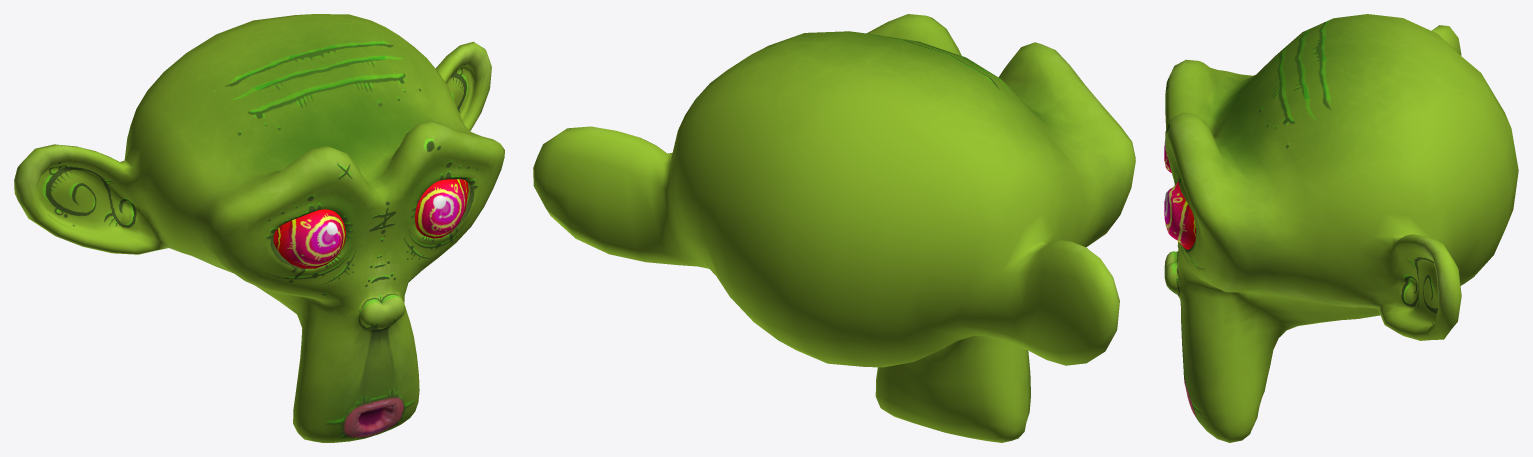
Rendered from suzanne.fbx.
The picture shows the model from 3 angles, left to right: view 1: azimuth 30°, elevation 25°; view 2: azimuth 150°, elevation 25°; view 3: azimuth 270°, elevation 25°; orthographic projection. The views are drawn at different scales.
Visible parts, largest first — view 1: Suzanne; view 2: Suzanne; view 3: Suzanne.
Boxes of the visible parts, box(x1,y1,x2,y2) form: Suzanne: box(14, 14, 504, 442); Suzanne: box(533, 14, 1135, 442); Suzanne: box(1164, 14, 1518, 442).
Bounding box in the file's own units: 265 × 191 × 160.
Materials: 1 (1 with a texture image).
